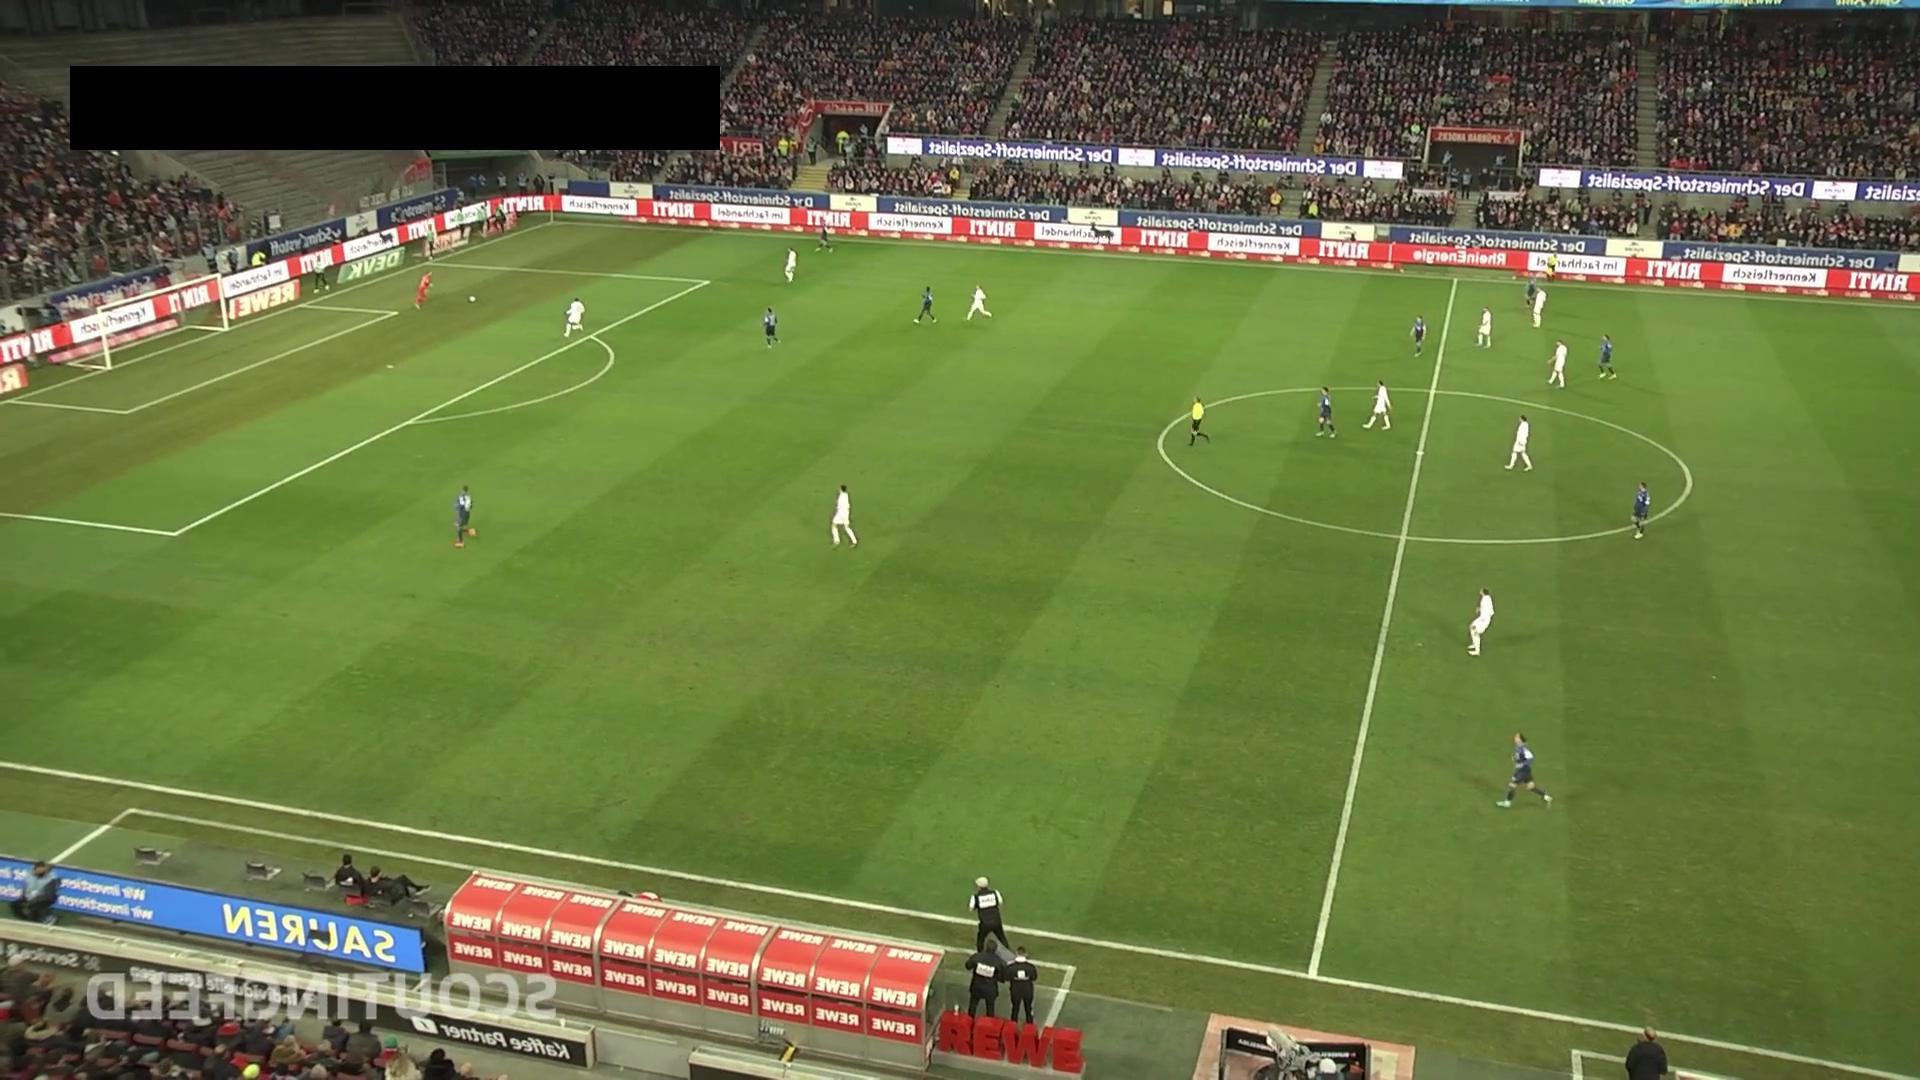ball: (467, 294, 477, 304)
goalkeeper: (414, 271, 433, 310)
player: (1493, 731, 1553, 810), (1467, 587, 1495, 656), (830, 484, 858, 548), (1504, 413, 1533, 471), (1362, 379, 1393, 430), (452, 484, 476, 548), (1630, 480, 1651, 539), (1315, 385, 1337, 438), (965, 284, 993, 322), (1547, 339, 1568, 388), (913, 285, 938, 324), (563, 296, 586, 338), (1597, 333, 1617, 380), (762, 305, 779, 348), (1476, 306, 1493, 348), (1410, 314, 1426, 357), (1532, 287, 1548, 329), (815, 220, 834, 254), (784, 246, 798, 283), (1524, 273, 1538, 309)
referee: (1187, 396, 1211, 447), (1544, 249, 1558, 285)
